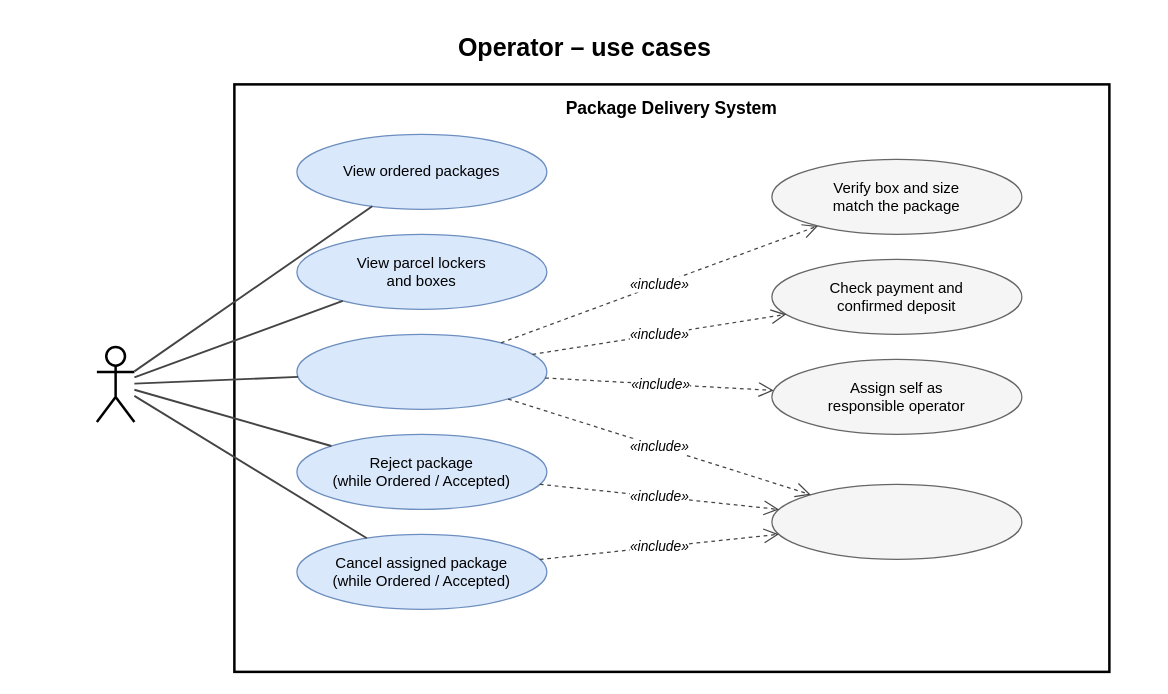
Some shapes in this 1168 by 694 pixel diagram are drawn without their labels. Here are the shapes that lost their labels. From the top down, the centre of each, then its label:
the point at 115,383: Operator
the point at 421,371: Accept package
the point at 896,521: Send notification
